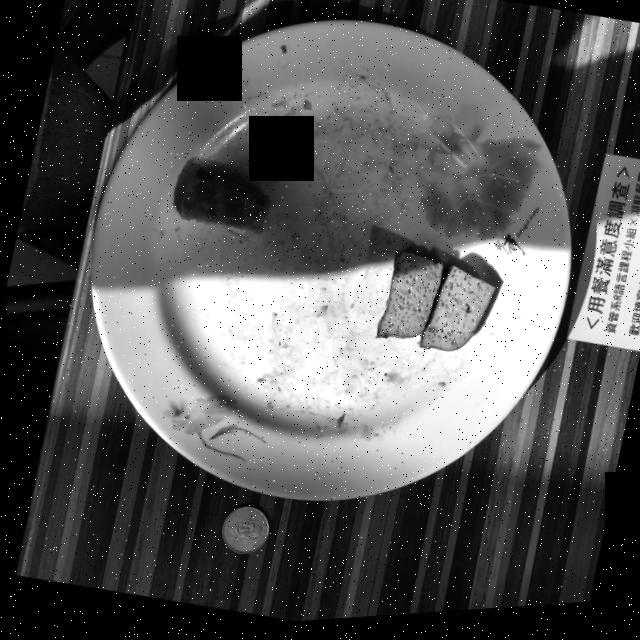coin: (218, 509, 266, 557)
creamy tofu: (179, 171, 269, 240)
firm tofu: (374, 255, 493, 357)
